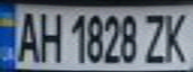1: (63, 10, 87, 63)
2: (103, 10, 124, 64)
8: (118, 10, 142, 65), (84, 10, 106, 64)
A: (12, 8, 42, 63)
H: (33, 8, 66, 63)
K: (160, 8, 193, 65)
Z: (139, 9, 169, 65)
